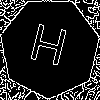H: (25, 22, 70, 76)
